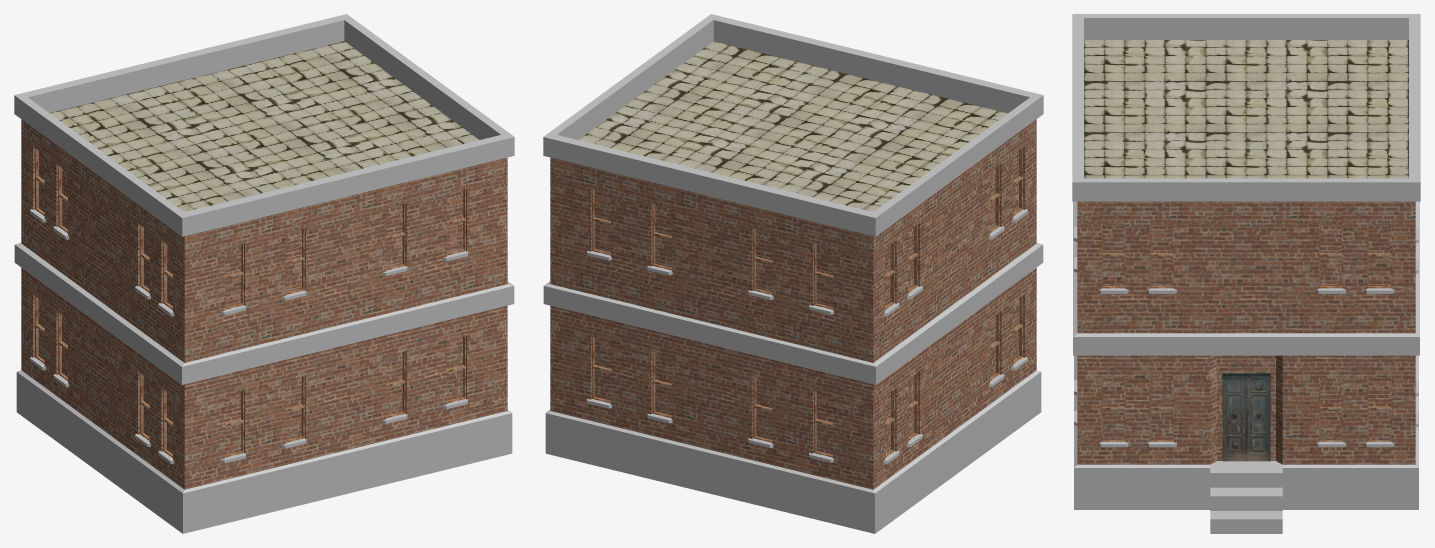
The model's file is buildingB.fbx.
The picture shows the model from 3 angles, left to right: view 1: azimuth 30°, elevation 25°; view 2: azimuth 150°, elevation 25°; view 3: azimuth 270°, elevation 25°; orthographic projection. The views are drawn at different scales.
Parts seen in each view (by area): view 1: pCube67; view 2: pCube67; view 3: pCube67.
Part boxes in pixels (left/top/right/bottom): pCube67: left=14, top=14, right=514, bottom=533; pCube67: left=543, top=14, right=1043, bottom=533; pCube67: left=1072, top=14, right=1420, bottom=533.
Size of the model in its own units: 18.74 by 15 by 14.42.
